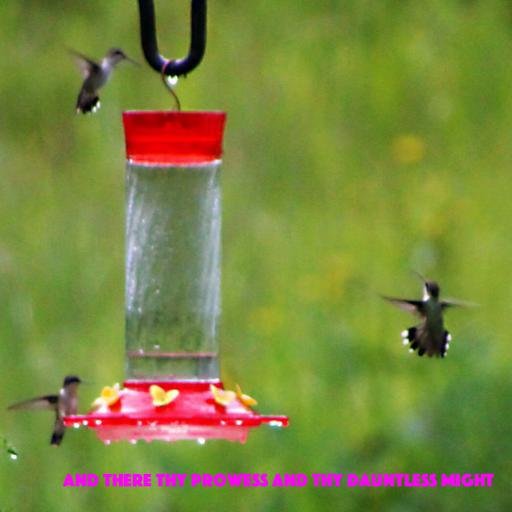Phosphate: (62, 473, 494, 487)
